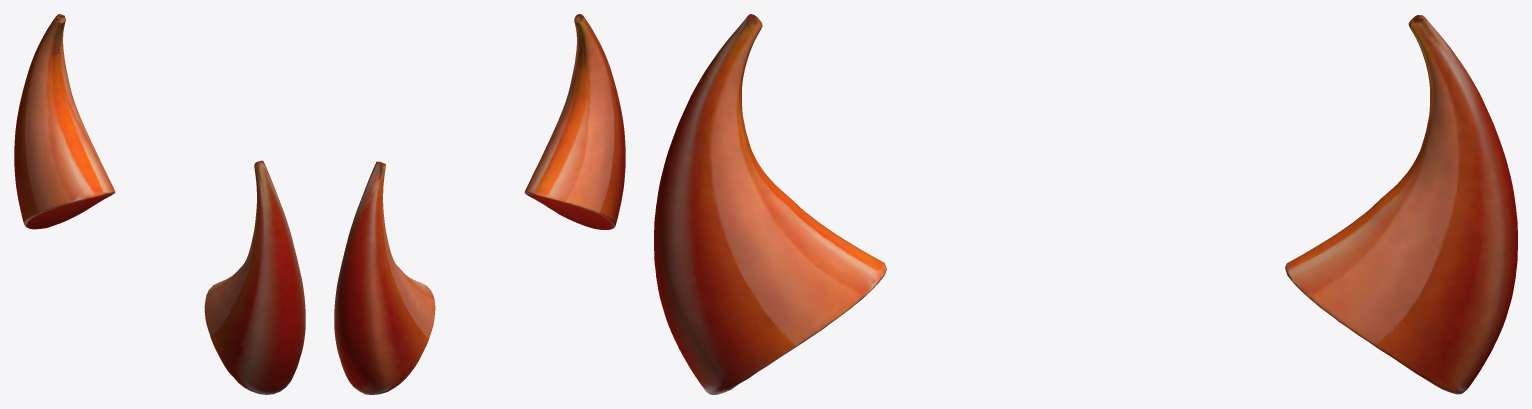
File: Fie_Horns_0423191120_texture.fbx
3 renders of one model, left to right at view 1: azimuth 30°, elevation 25°; view 2: azimuth 150°, elevation 25°; view 3: azimuth 270°, elevation 25°, orthographic. The views are drawn at different scales.
Parts seen in each view (by area): view 1: Mesh1_Mesh1.072; view 2: Mesh1_Mesh1.072; view 3: Mesh1_Mesh1.072.
Part boxes in pixels (bbox=[...]): Mesh1_Mesh1.072: bbox=[14, 14, 305, 394]; Mesh1_Mesh1.072: bbox=[334, 14, 625, 394]; Mesh1_Mesh1.072: bbox=[654, 14, 1517, 394].
Size of the model in its own units: 31.76 by 95.26 by 200.
Materials: 1 (1 with a texture image).
